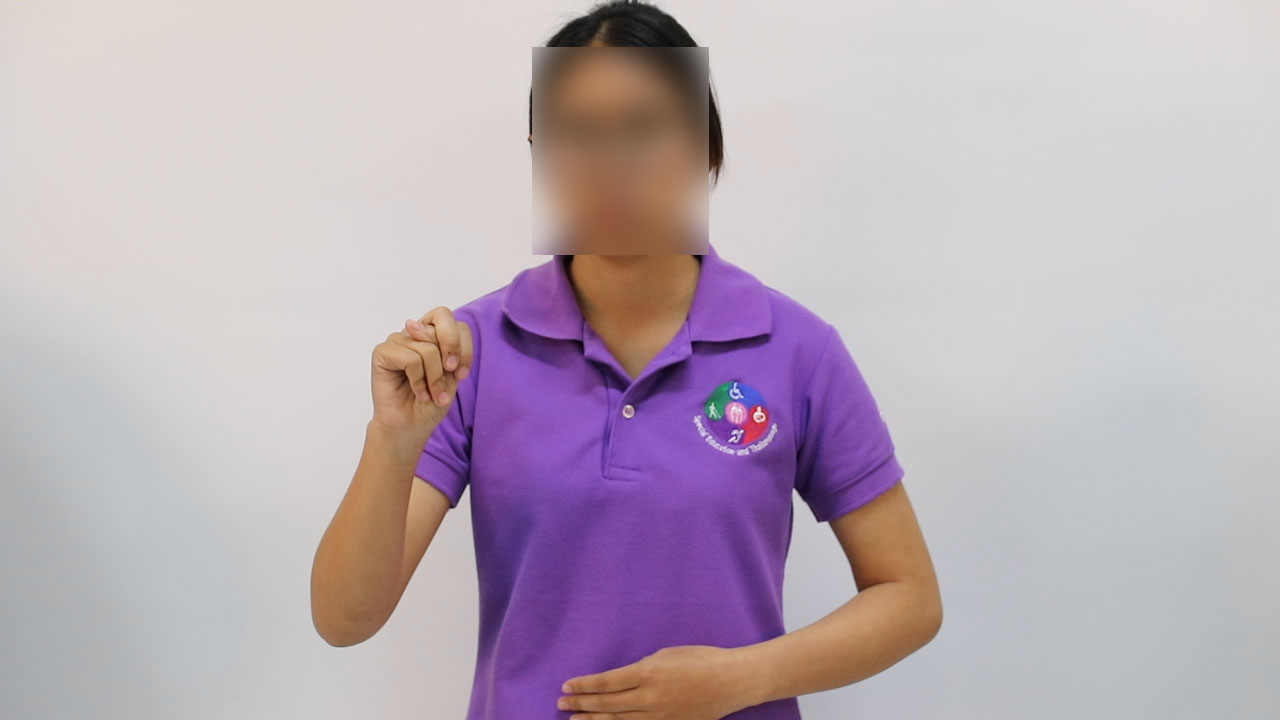nor: (350, 298, 490, 443)
